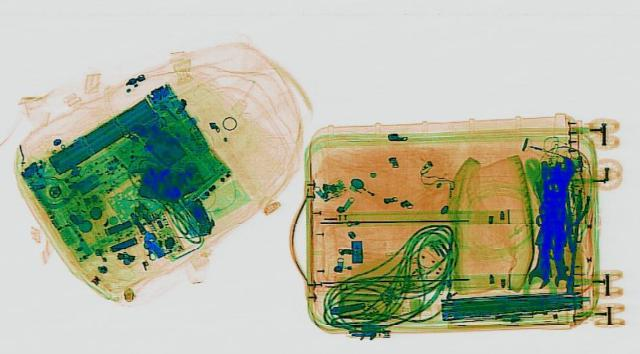Wrench: (522, 231, 560, 286), (546, 237, 572, 284)
